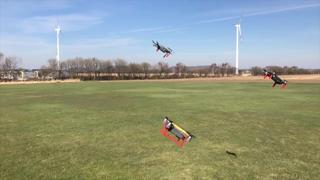UAV: (160, 116, 196, 148), (263, 68, 288, 89), (152, 40, 176, 58)
